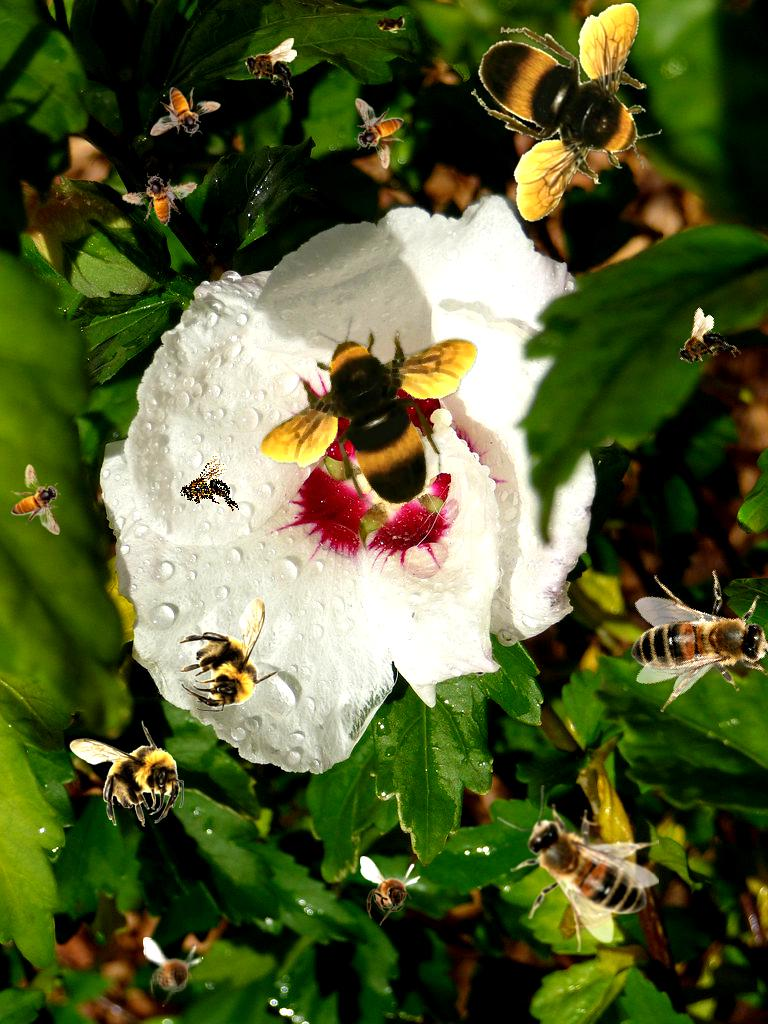Bee: (236, 261, 522, 552), (471, 3, 662, 223), (592, 524, 768, 756), (497, 785, 659, 952), (177, 597, 284, 712), (69, 720, 184, 827), (662, 305, 745, 387), (171, 451, 244, 529), (117, 166, 199, 231), (143, 937, 204, 1007), (360, 856, 421, 926), (150, 87, 221, 137), (11, 464, 61, 535), (354, 98, 404, 169), (244, 38, 297, 100), (370, 12, 410, 34)
